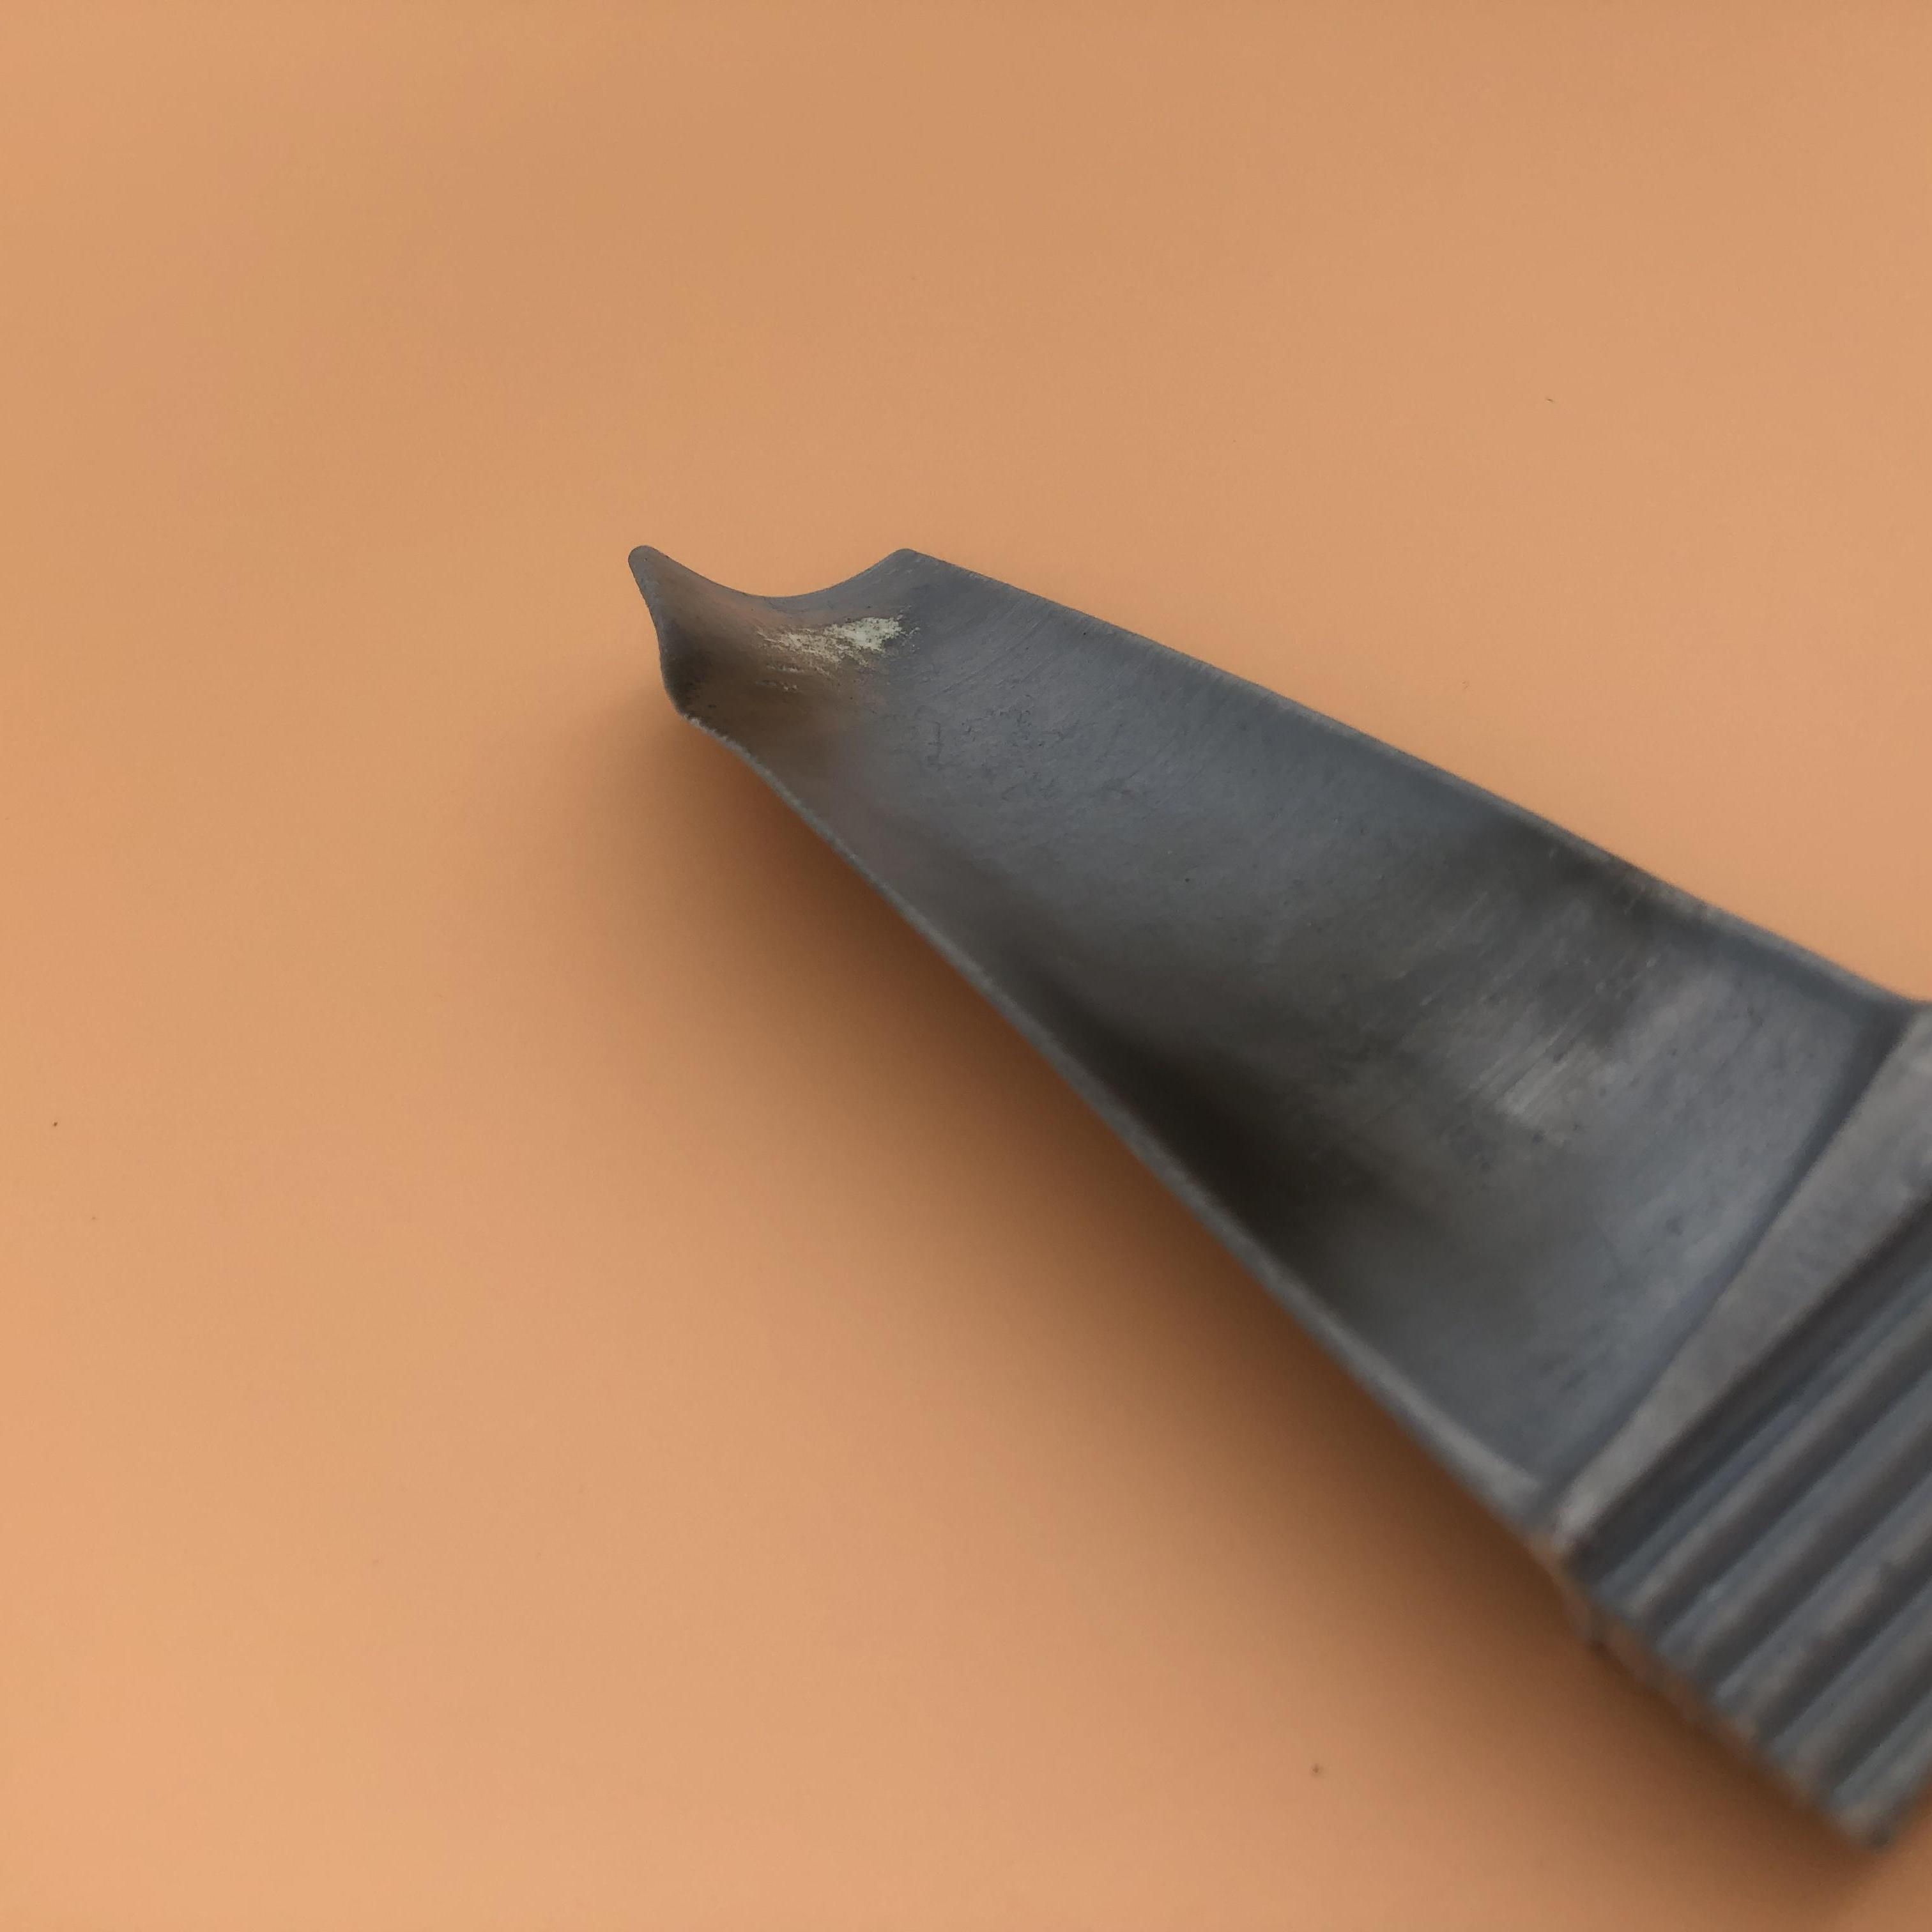ablation: (1083, 842, 1707, 1205), (653, 584, 966, 775)
